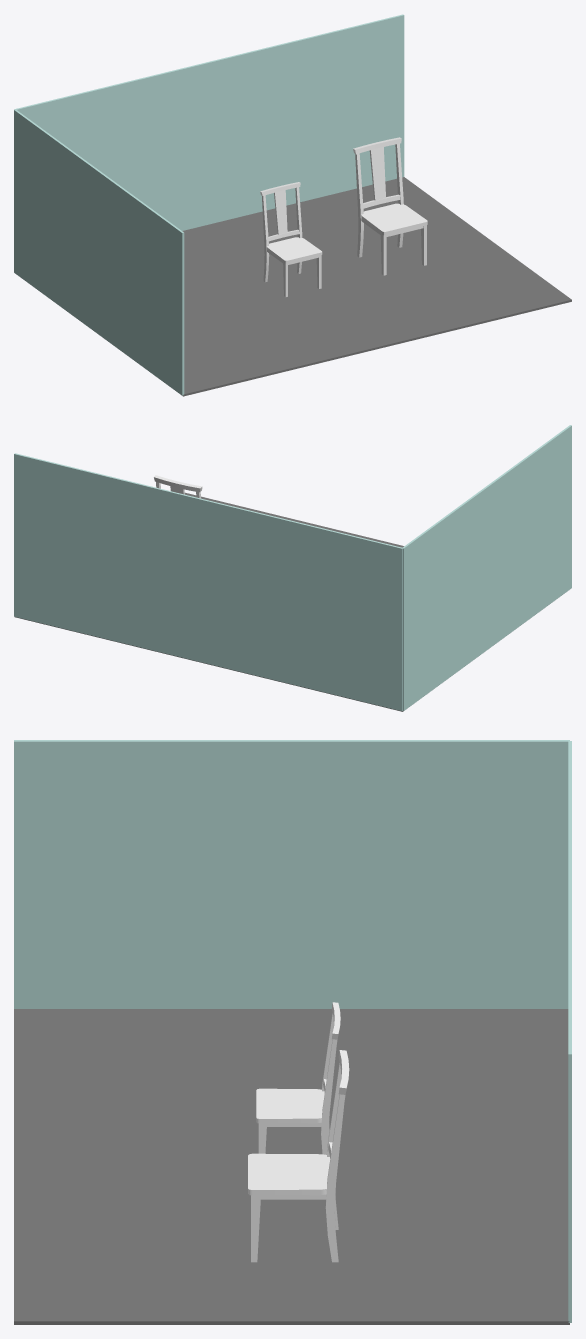
3 renders of one model, top to bottom at view 1: azimuth 30°, elevation 25°; view 2: azimuth 150°, elevation 25°; view 3: azimuth 270°, elevation 25°, orthographic. The views are drawn at different scales.
Parts seen in each view (by area): view 1: Wall (×2), Floor, chair (×2); view 2: Wall (×2), Floor, chair; view 3: Floor, Wall (×2), chair (×2).
Part boxes in pixels (x1,y1,x2,y2): Wall (×2): (14,14,404,395); Floor: (182,177,571,396); chair (×2): (260,137,427,297); Wall (×2): (14,425,571,711); Floor: (15,492,403,711); chair: (154,475,202,498); Floor: (14,1009,569,1324); Wall (×2): (14,740,571,1322); chair (×2): (248,1002,349,1262).
Bounding box in the file's own units: 20.05 × 8.05 × 15.05.
